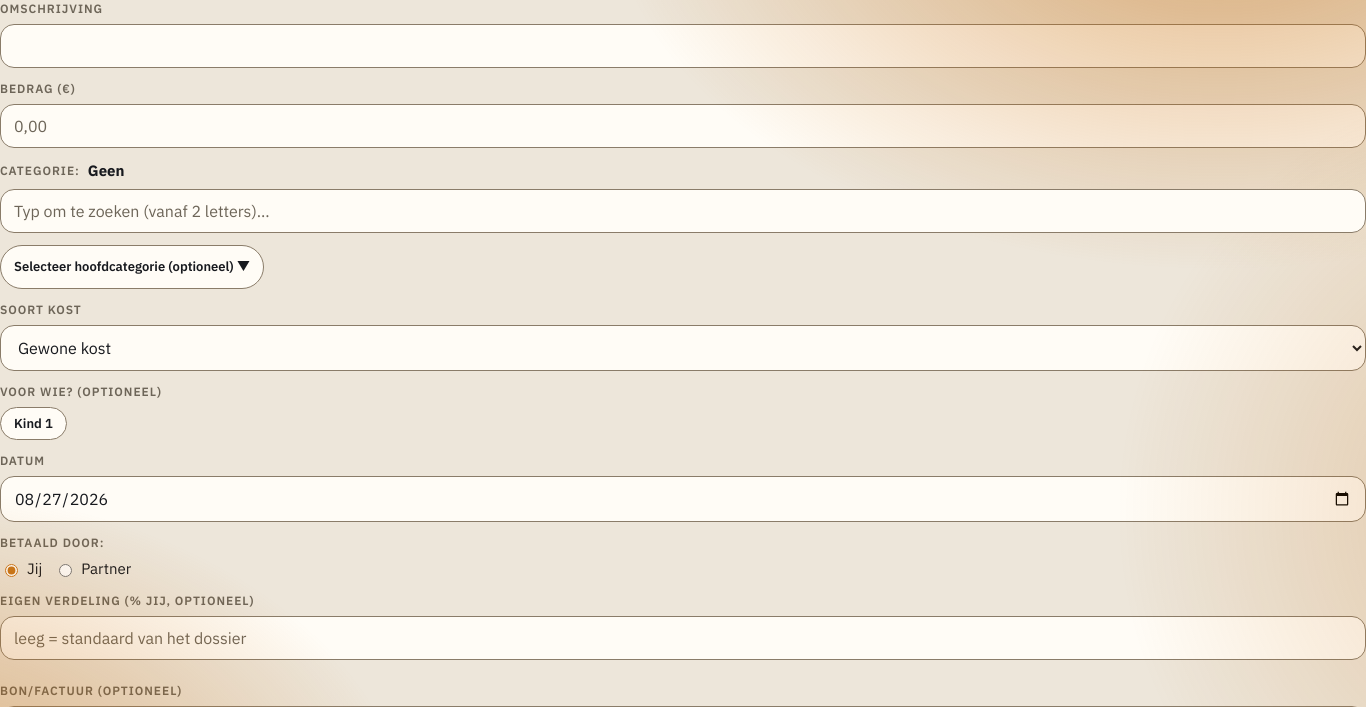
Test case: GedeeldeKostFormulier › stelt buitengewoon voor zodra je een categorie uit de KB-lijst kiest
In the dropdown named "Zoek een categorie of subcategorie": (683, 210) [0,188,1365,232], type "Orthodontie"
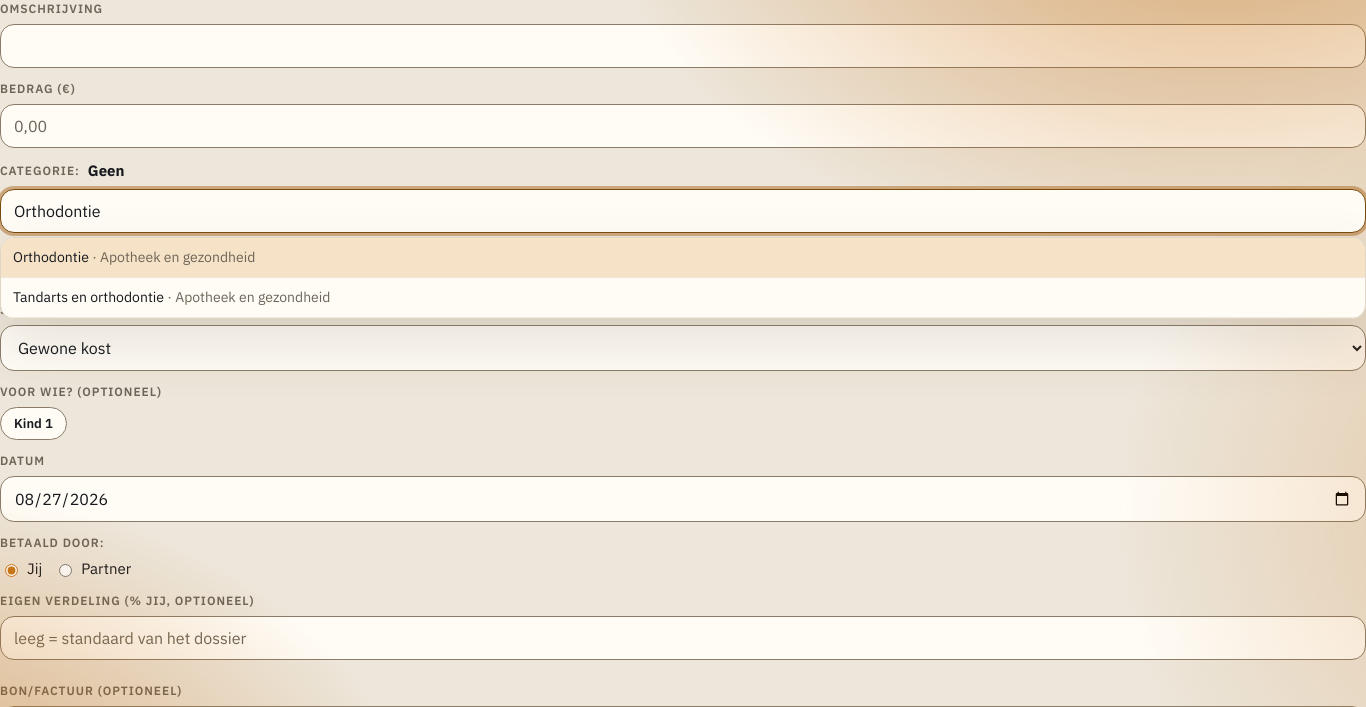
Click the option "Orthodontie · Apotheek en gezondheid": (51, 256) [1,238,1365,278]
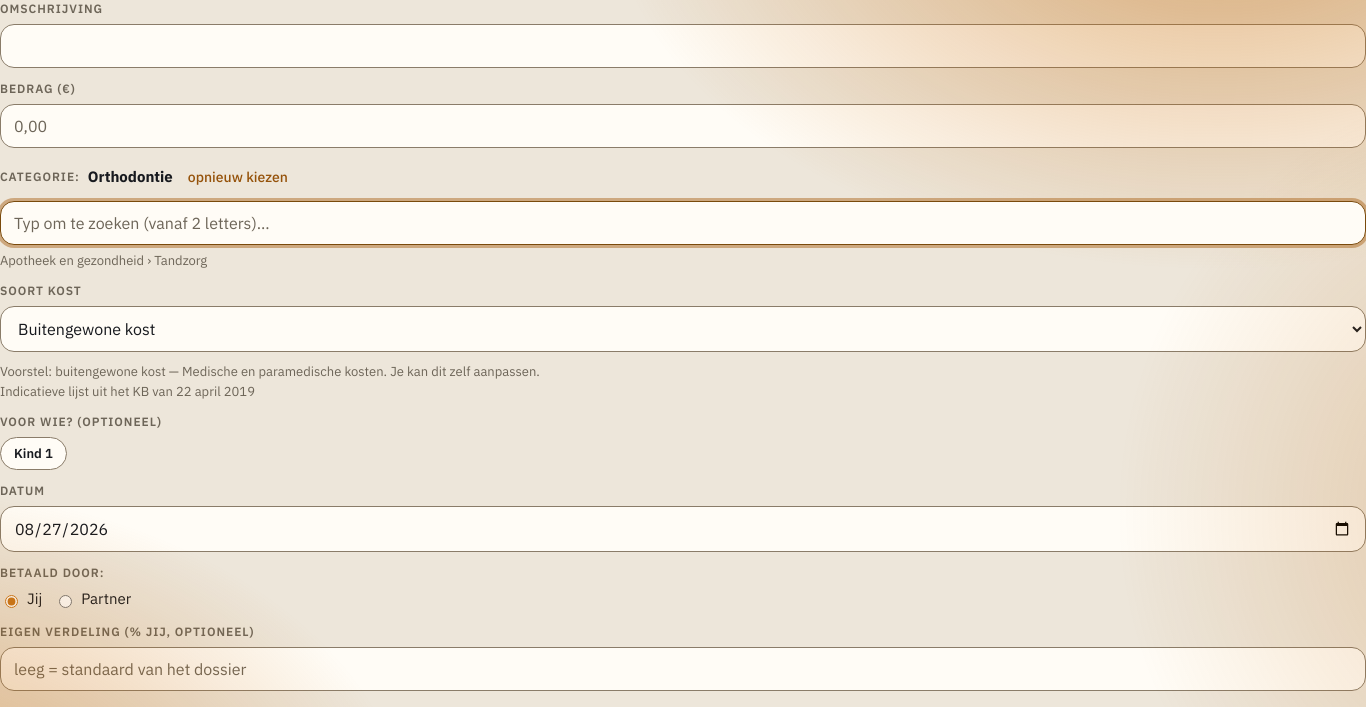
Check: the dropdown labelled "Soort kost" shows "Buitengewone kost", box [0,306,1365,352]
Check: the text "Medische en paramedische kosten" is shown, box [0,363,540,380]
Check: the text "KB van 22 april 2019" is shown, box [0,383,255,400]
